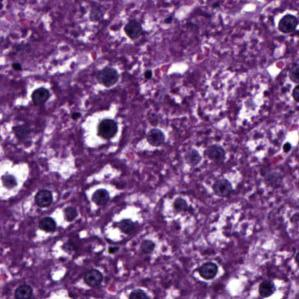inflammation: (84, 111, 126, 150), (84, 181, 125, 218), (104, 206, 146, 242), (24, 79, 58, 111)
